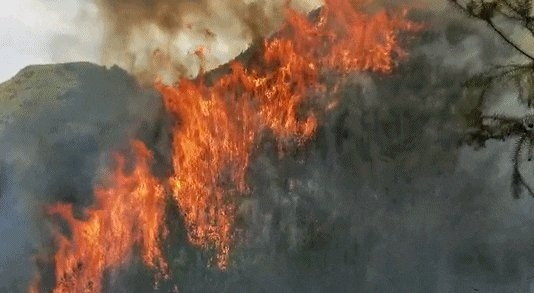fire: (51, 0, 452, 280)
